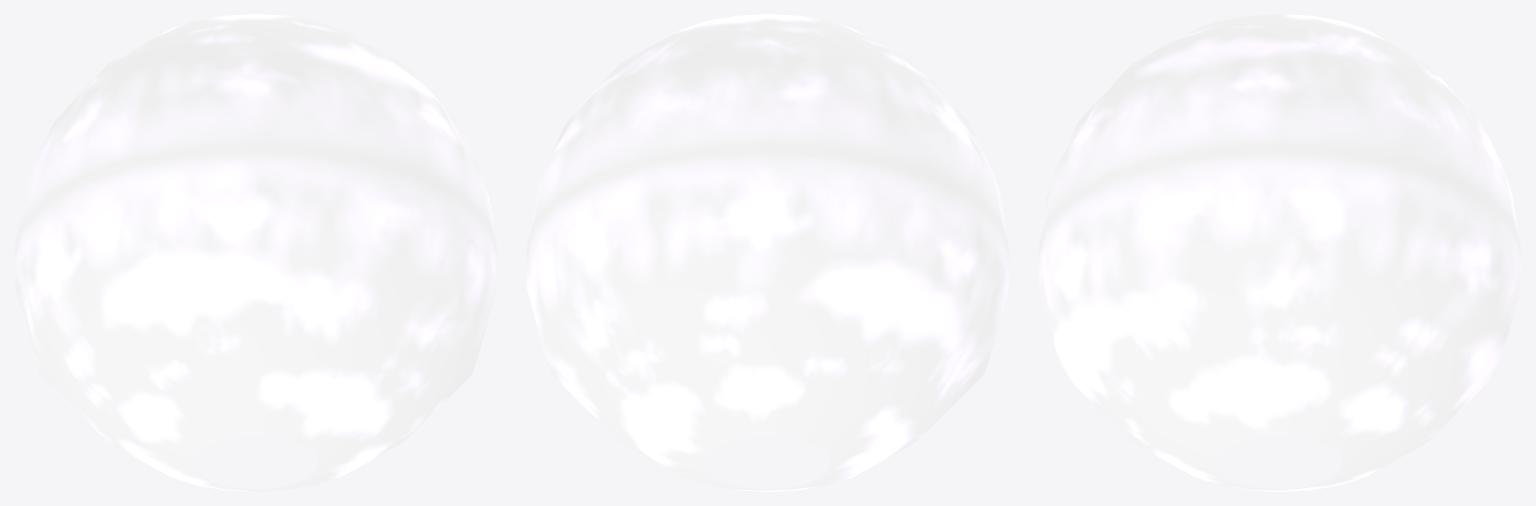
File: sky_Cloud0002.glb
The picture shows the model from 3 angles, left to right: view 1: azimuth 30°, elevation 25°; view 2: azimuth 150°, elevation 25°; view 3: azimuth 270°, elevation 25°; orthographic projection.
Parts seen in each view (by area): view 1: sky_Cloud0002; view 2: sky_Cloud0002; view 3: sky_Cloud0002.
Part boxes in pixels (x1,y1,x2,y2): sky_Cloud0002: (14, 14, 497, 491); sky_Cloud0002: (526, 14, 1009, 491); sky_Cloud0002: (1038, 14, 1521, 491).
Size of the model in its own units: 1.91 by 1.83 by 1.91.
1 material, 1 textured.
